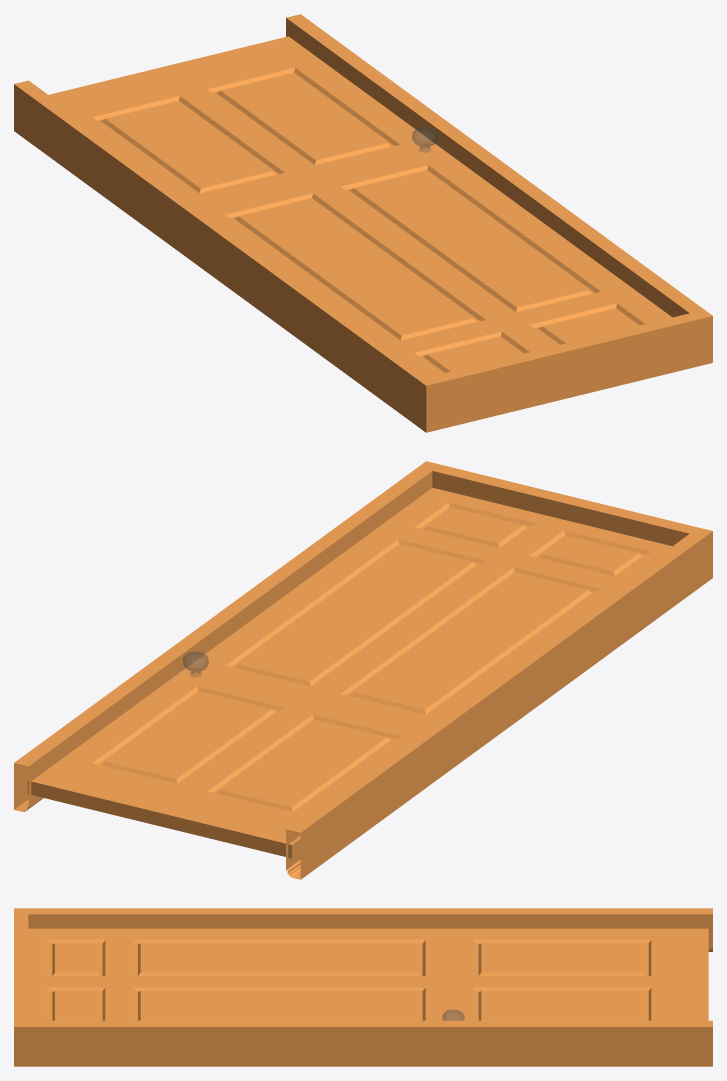
Rendered from door.glb.
The picture shows the model from 3 angles, top to bottom: view 1: azimuth 30°, elevation 25°; view 2: azimuth 150°, elevation 25°; view 3: azimuth 270°, elevation 25°; orthographic projection. The views are drawn at different scales.
Parts seen in each view (by area): view 1: 16695_36x96_6_Panel_Door-White_V1; view 2: 16695_36x96_6_Panel_Door-White_V1; view 3: 16695_36x96_6_Panel_Door-White_V1.
Boxes of the visible parts, <box> form: 16695_36x96_6_Panel_Door-White_V1: <box>14,14,712,432</box>; 16695_36x96_6_Panel_Door-White_V1: <box>14,461,712,879</box>; 16695_36x96_6_Panel_Door-White_V1: <box>14,908,712,1066</box>.
Size of the model in its own units: 91.86 by 16.73 by 229.
